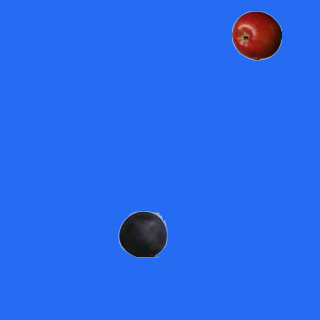Apple Braeburn: (231, 10, 281, 60)
Grape Blue: (117, 208, 167, 258)
